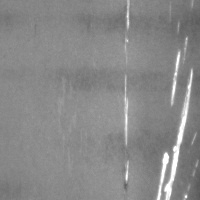scratches: (156, 52, 195, 199), (118, 0, 136, 187)
